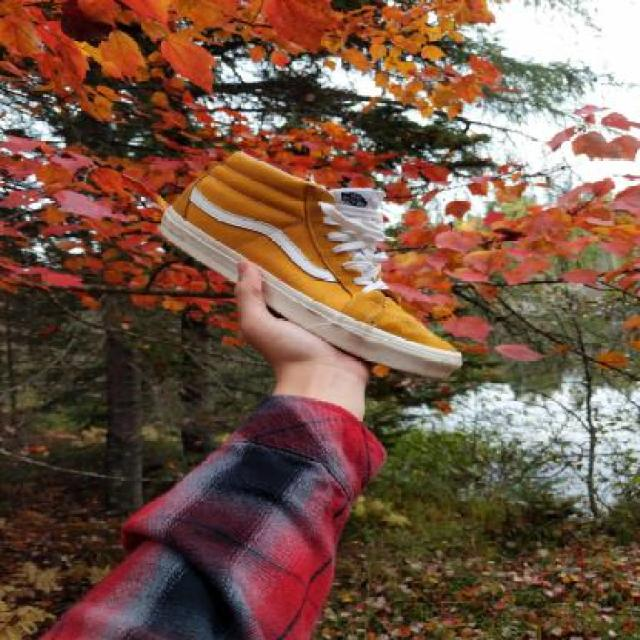shoe: (154, 146, 466, 382)
